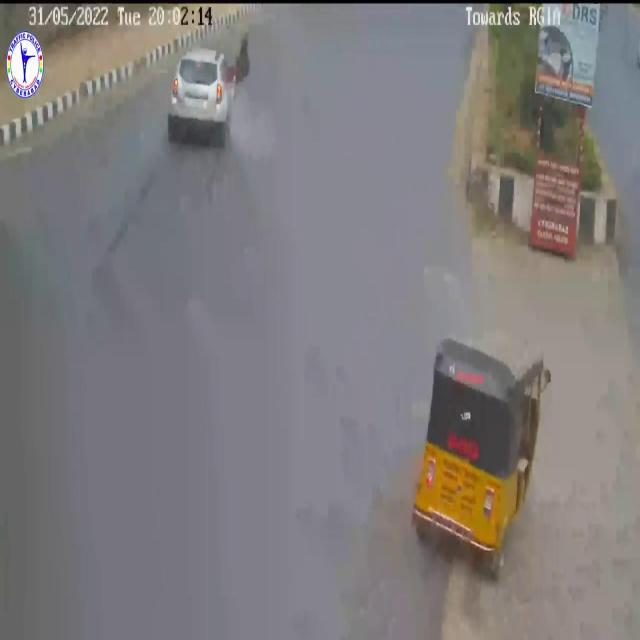accident: (159, 26, 254, 168)
